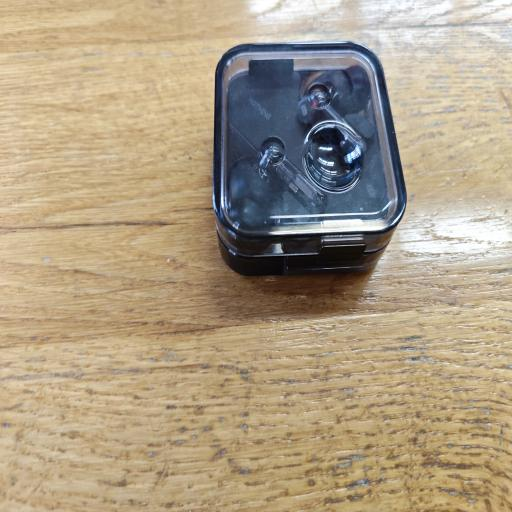CASTI: (208, 29, 412, 281)
